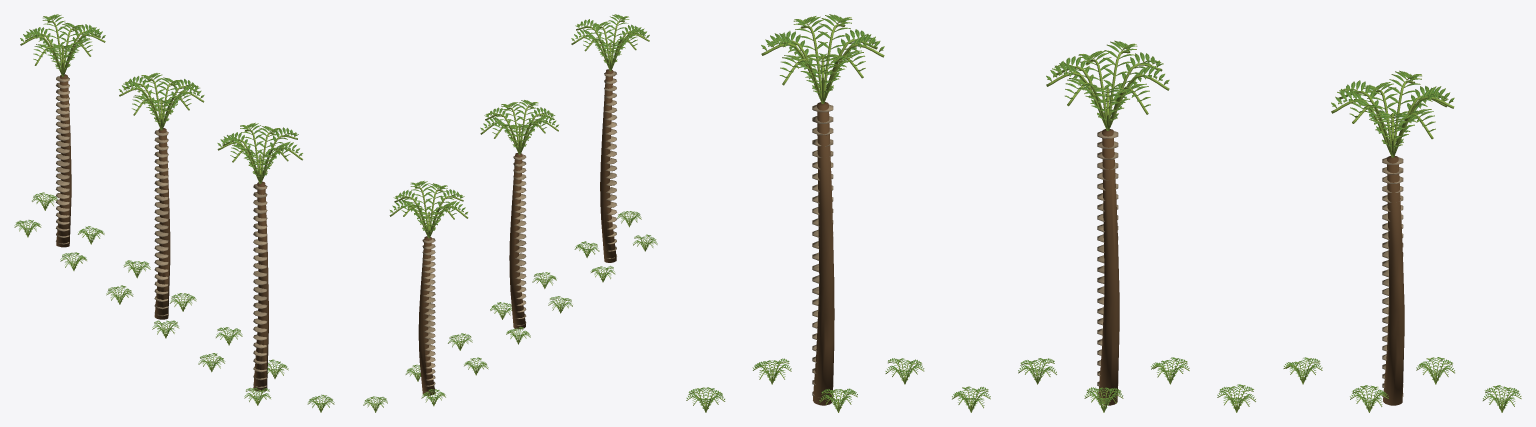
3 renders of one model, left to right at view 1: azimuth 30°, elevation 25°; view 2: azimuth 150°, elevation 25°; view 3: azimuth 270°, elevation 25°, orthographic. The views are drawn at different scales.
Parts seen in each view (by area): view 1: C01_SPEC_Leaf new growth_export, C01_SPEC_Leaf jade_export, C01_SPEC_Matrix sandstone_export, C01_SPEC_Bark_export; view 2: C01_SPEC_Leaf new growth_export, C01_SPEC_Leaf jade_export, C01_SPEC_Bark_export, C01_SPEC_Matrix sandstone_export; view 3: C01_SPEC_Leaf new growth_export, C01_SPEC_Bark_export, C01_SPEC_Leaf jade_export, C01_SPEC_Matrix sandstone_export.
Part boxes in pixels (left/top/right/bottom): C01_SPEC_Leaf new growth_export: left=14, top=14, right=334, bottom=412; C01_SPEC_Leaf jade_export: left=15, top=14, right=334, bottom=410; C01_SPEC_Matrix sandstone_export: left=56, top=76, right=267, bottom=388; C01_SPEC_Bark_export: left=56, top=74, right=268, bottom=391; C01_SPEC_Leaf new growth_export: left=363, top=14, right=657, bottom=412; C01_SPEC_Leaf jade_export: left=364, top=14, right=657, bottom=410; C01_SPEC_Bark_export: left=418, top=69, right=616, bottom=395; C01_SPEC_Matrix sandstone_export: left=422, top=71, right=616, bottom=392; C01_SPEC_Leaf new growth_export: left=686, top=14, right=1521, bottom=412; C01_SPEC_Bark_export: left=813, top=102, right=1404, bottom=405; C01_SPEC_Leaf jade_export: left=687, top=15, right=1520, bottom=409; C01_SPEC_Matrix sandstone_export: left=812, top=104, right=1403, bottom=397.
Size of the model in its own units: 1.57 by 5.18 by 10.7.
